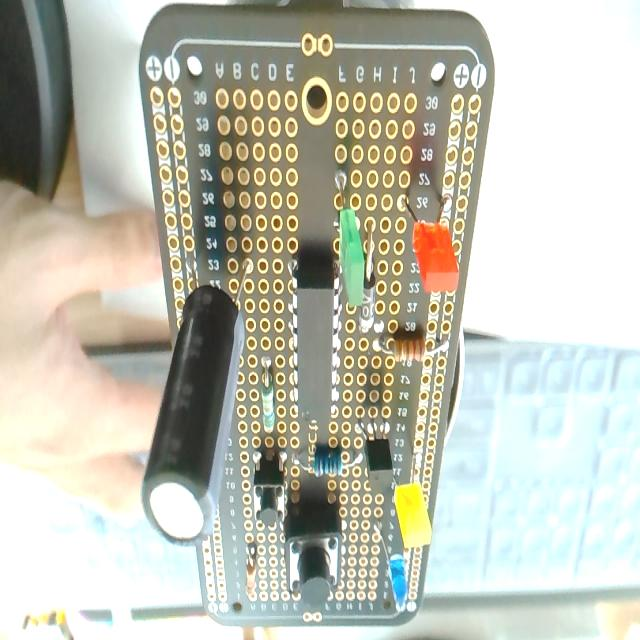Electrolytic capacitor: (136, 245, 250, 559)
IC: (288, 262, 342, 426)
diode: (357, 224, 381, 336)
led: (406, 176, 458, 302), (372, 524, 410, 618), (339, 168, 362, 308), (397, 454, 431, 548)
resistor: (292, 433, 362, 482), (372, 333, 456, 369), (256, 355, 280, 437), (242, 540, 258, 610)
switch: (284, 514, 346, 620), (247, 468, 290, 532)
transistor: (359, 396, 399, 501)
